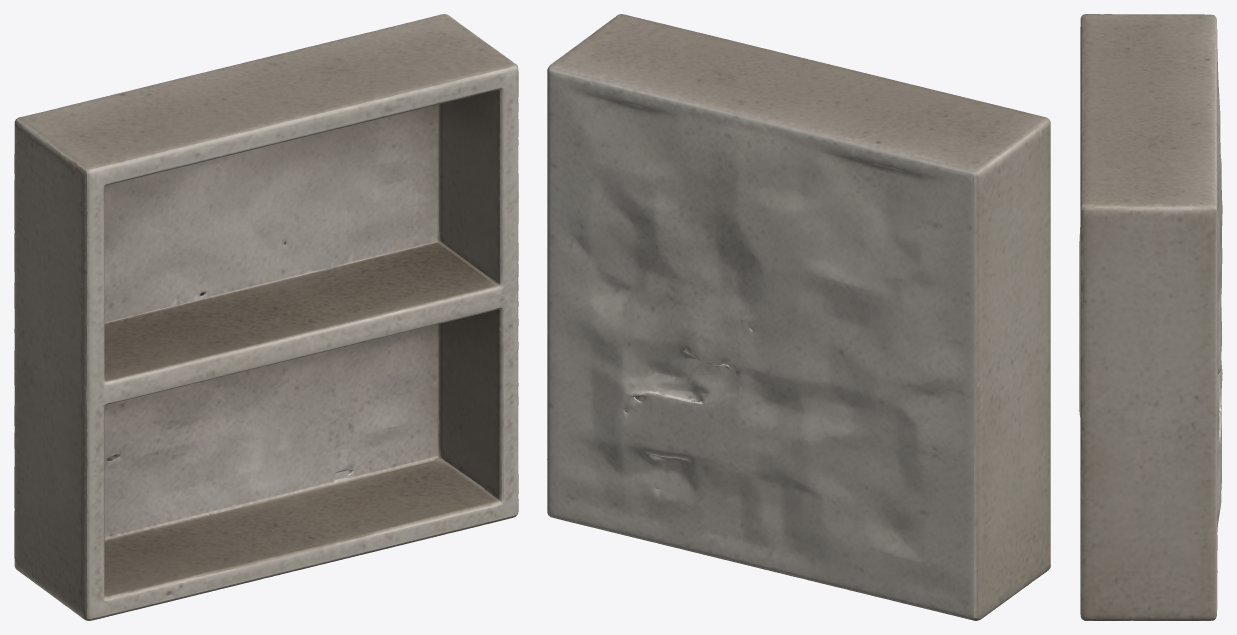
Rendered from item_04a62f2f.glb.
The picture shows the model from 3 angles, left to right: view 1: azimuth 30°, elevation 25°; view 2: azimuth 150°, elevation 25°; view 3: azimuth 270°, elevation 25°; orthographic projection. The views are drawn at different scales.
Parts seen in each view (by area): view 1: world; view 2: world; view 3: world.
Boxes of the visible parts, x1,y1,x2,y2 form: world: (14, 14, 518, 620); world: (547, 14, 1050, 620); world: (1079, 14, 1222, 620).
Size of the model in its own units: 0.9035 by 0.9 by 0.2808.
1 material, 1 textured.
